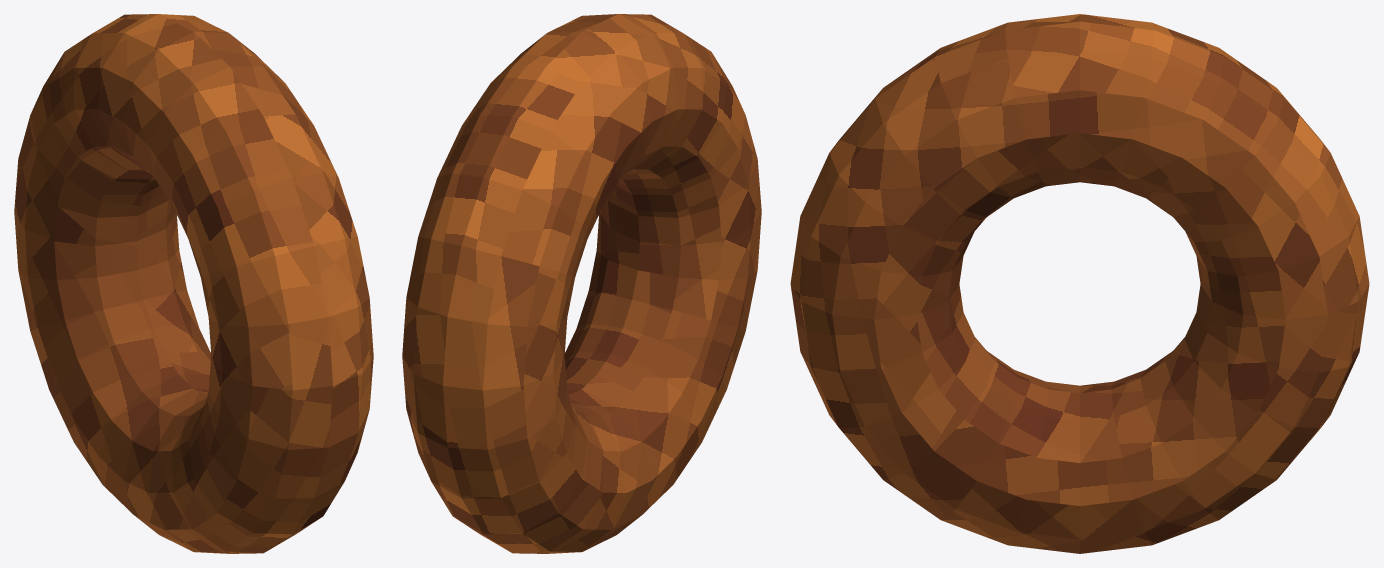
3 views of the same model, side by side, from view 1: azimuth 30°, elevation 25°; view 2: azimuth 150°, elevation 25°; view 3: azimuth 270°, elevation 25° (orthographic). The views are drawn at different scales.
Visible parts, largest first — view 1: Torus.015; view 2: Torus.015; view 3: Torus.015.
Part boxes in pixels (box(x1,y1,x2,y2)): Torus.015: box(14, 14, 373, 553); Torus.015: box(402, 14, 761, 553); Torus.015: box(790, 14, 1369, 553).
Bounding box in the file's own units: 0.0655 × 0.2246 × 0.2246.
Materials: 1 (1 with a texture image).
